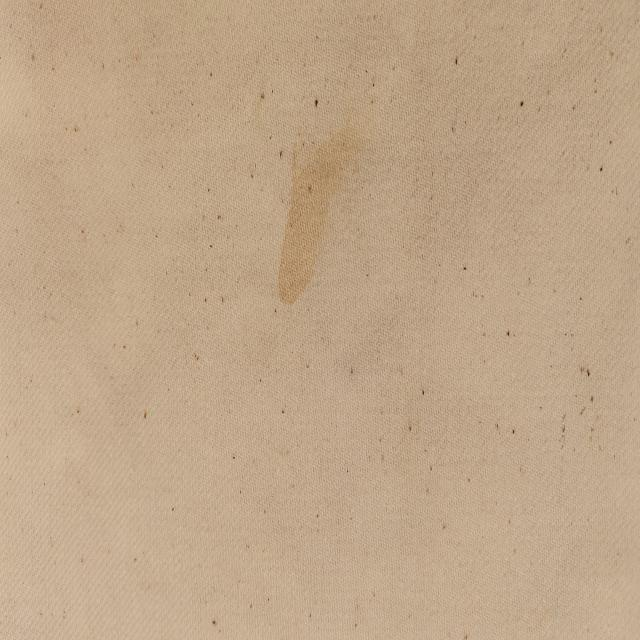taaaches: (274, 114, 358, 310)
